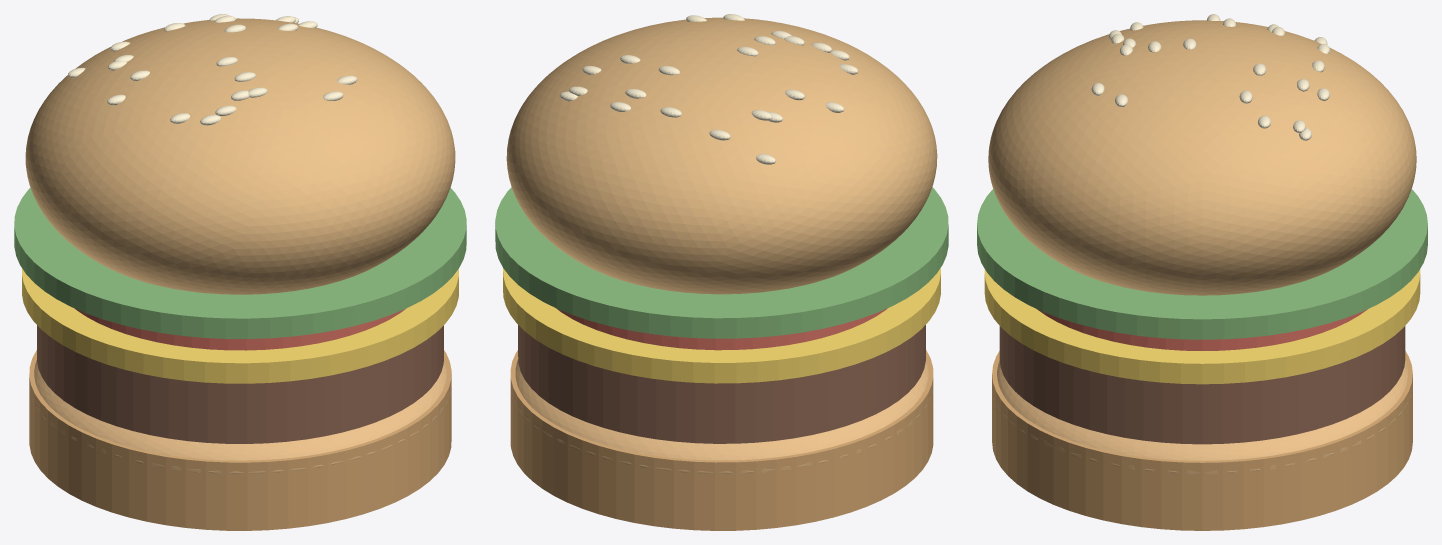
File: hamburger.glb
3 renders of one model, left to right at view 1: azimuth 30°, elevation 25°; view 2: azimuth 150°, elevation 25°; view 3: azimuth 270°, elevation 25°, orthographic.
Visible parts, largest first — view 1: top_bun, bottom_bun, lettuce, beef_patty, cheddar, bottom_bun_rounding, tomato; view 2: top_bun, bottom_bun, lettuce, beef_patty, cheddar, bottom_bun_rounding, tomato; view 3: top_bun, bottom_bun, lettuce, beef_patty, cheddar, bottom_bun_rounding, tomato.
Part boxes in pixels (x1,y1,x2,y2): top_bun: (25,18,455,294); bottom_bun: (29,350,451,530); lettuce: (14,188,466,338); beef_patty: (37,325,443,443); cheddar: (22,268,458,383); bottom_bun_rounding: (30,360,451,474); tomato: (75,308,405,350); top_bun: (506,17,937,294); bottom_bun: (510,350,933,530); lettuce: (495,187,948,338); beef_patty: (518,325,925,443); cheddar: (503,268,940,383); bottom_bun_rounding: (511,359,932,474); tomato: (556,308,887,350); top_bun: (988,20,1416,295); bottom_bun: (992,351,1412,530); lettuce: (977,189,1427,339); beef_patty: (999,326,1405,444); cheddar: (984,269,1420,384); bottom_bun_rounding: (992,361,1412,474); tomato: (1037,309,1367,350).
Size of the model in its own units: 0.12 by 0.115 by 0.12.
